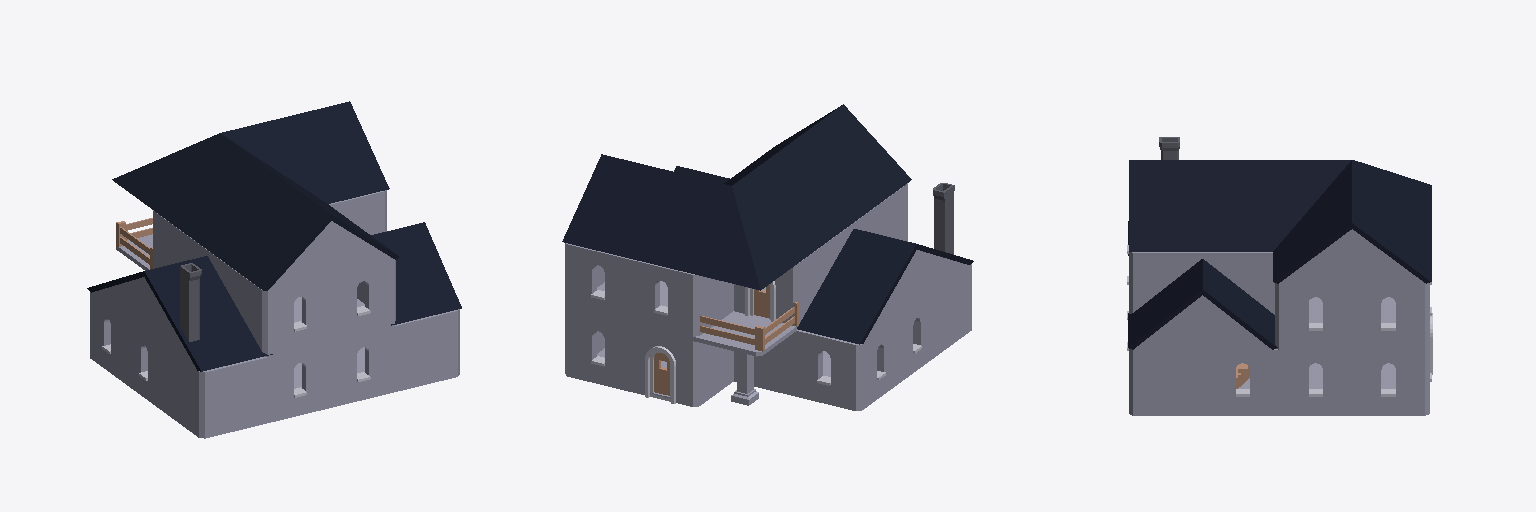
Rendered from House3.obj.
3 renders of one model, left to right at view 1: azimuth 30°, elevation 25°; view 2: azimuth 150°, elevation 25°; view 3: azimuth 270°, elevation 25°, orthographic.
Bounding box in the file's own units: 4.18 × 2.92 × 4.21.